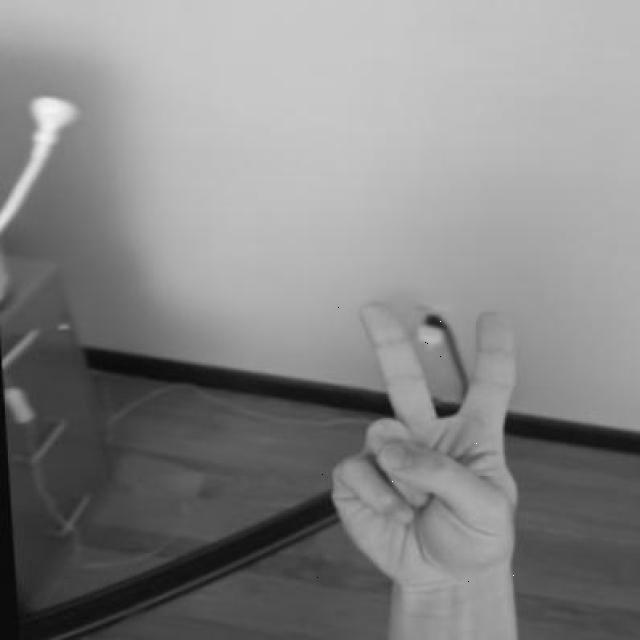V: (309, 289, 534, 591)
